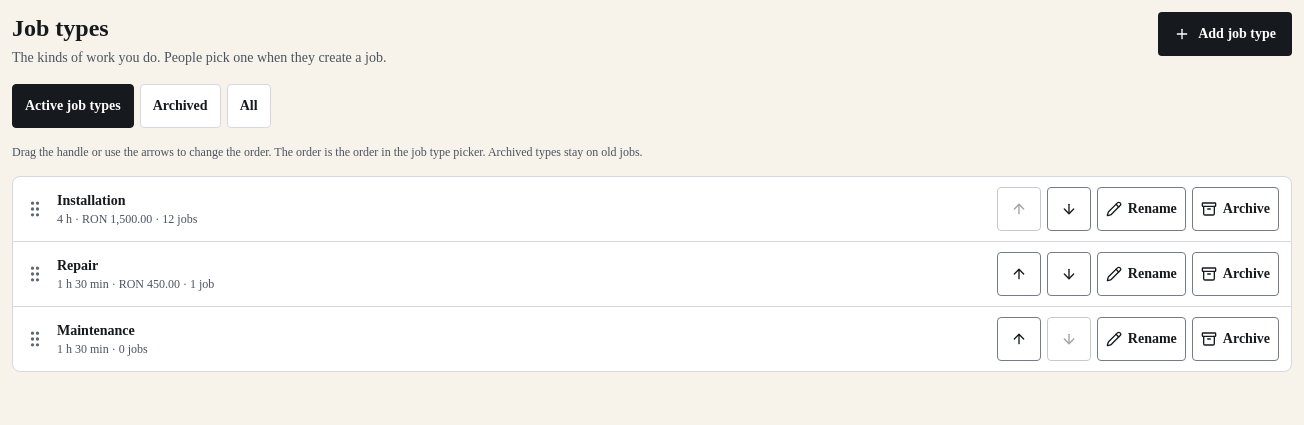
Job types admin (ce3173a7) › reorder › a failed save puts the old order back and says so
Expected: the text "Installation" is shown, x1=57 y1=191 x2=126 y2=211
Click the button named "Move Installation down".
click(1069, 209)  # box x1=1047 y1=187 x2=1091 y2=231
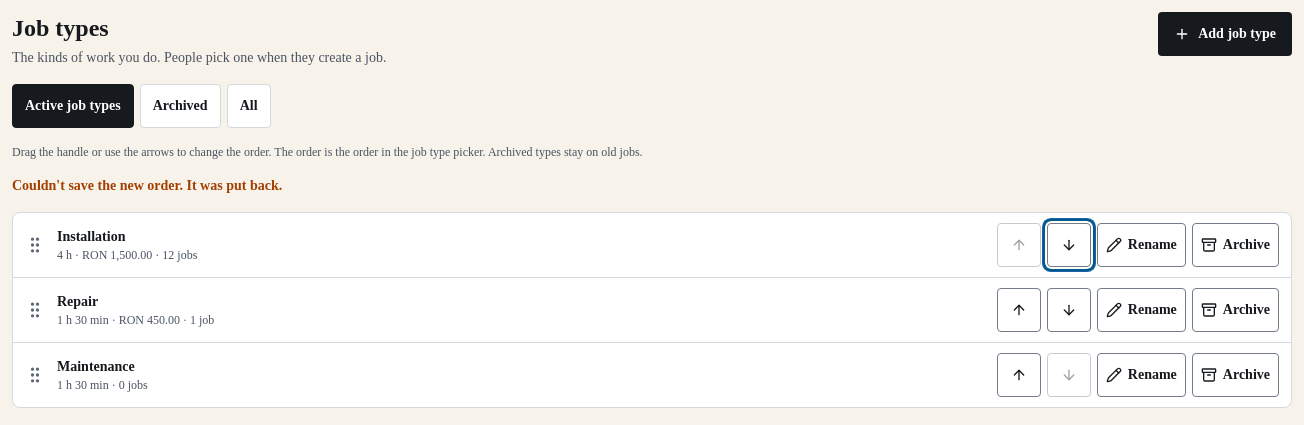
Expected: the list item "Installation 4 h · RON 1,500.00 · 12 jobs Rename Archive" is shown, x1=13 y1=213 x2=1291 y2=277
Expected: the message shows "Couldn't save the new order", x1=12 y1=178 x2=282 y2=193
